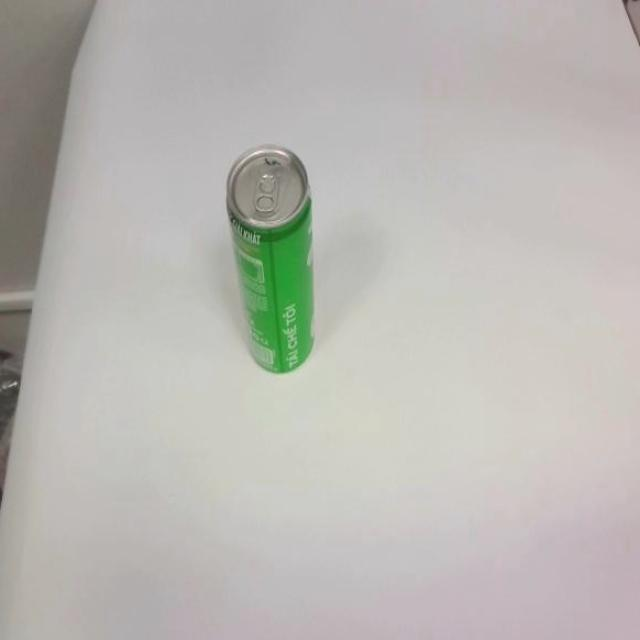debris: (224, 144, 314, 375)
